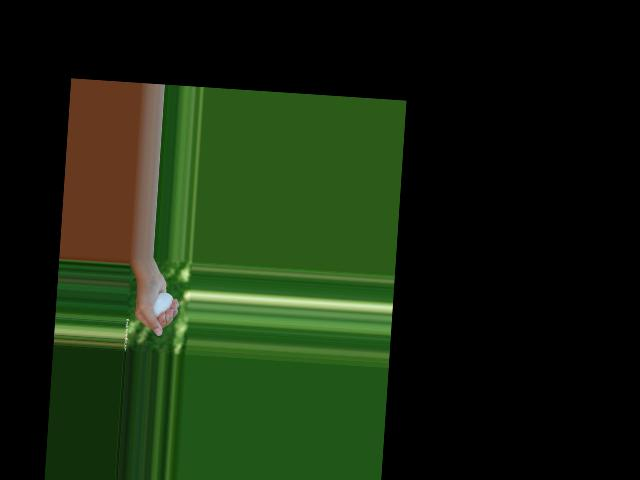egg: (153, 292, 173, 319)
